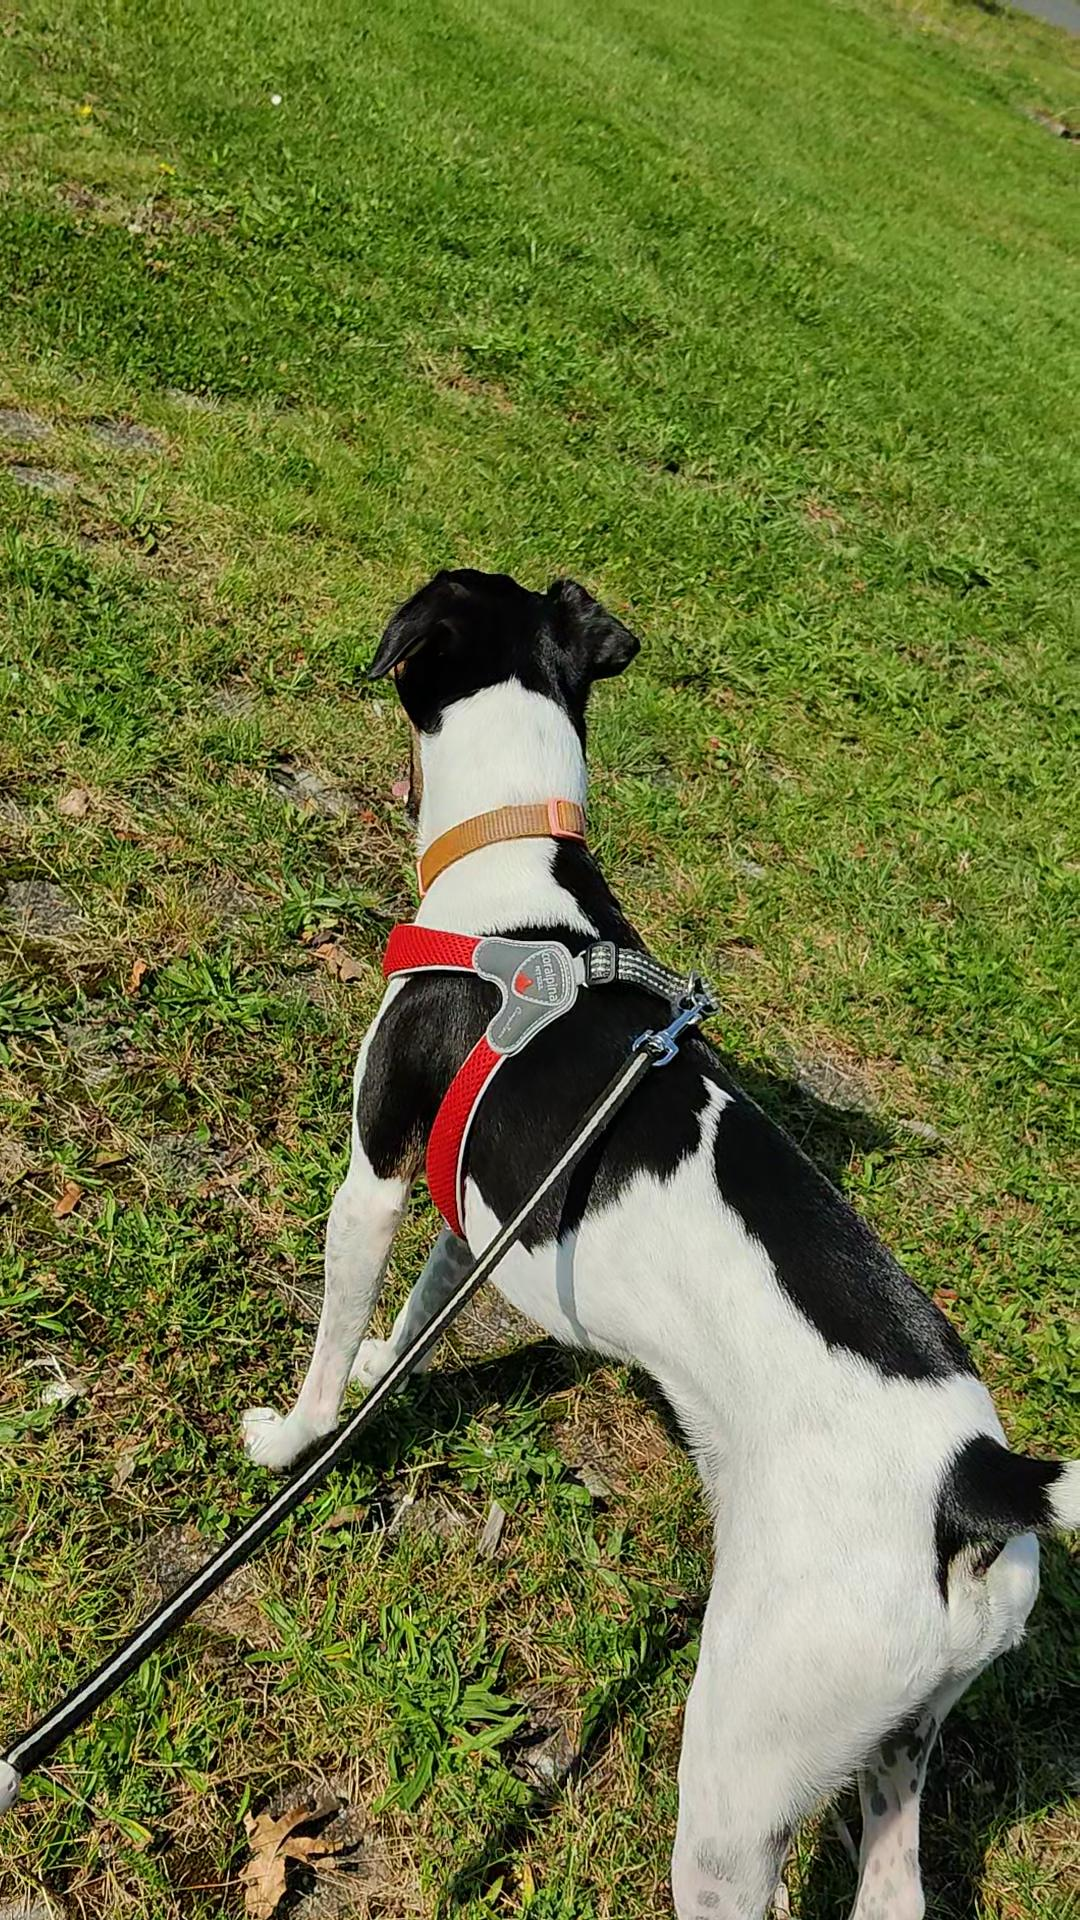Dog: (225, 539, 1079, 1919)
